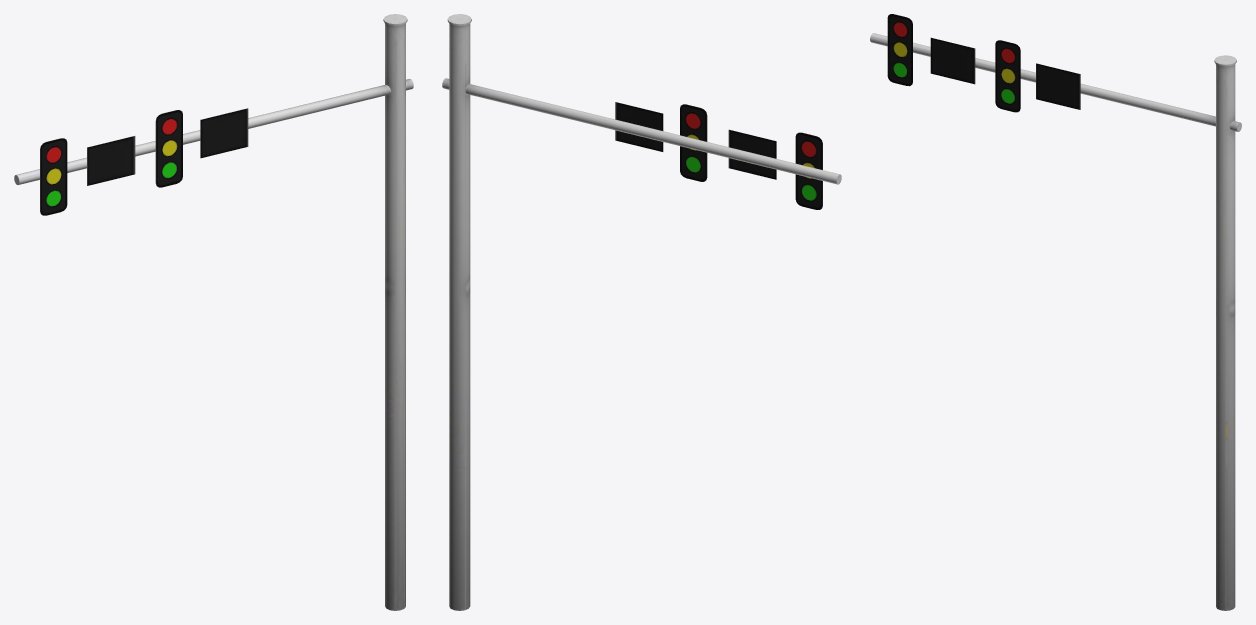
File: jiaotongdeng.glb
The picture shows the model from 3 angles, left to right: view 1: azimuth 30°, elevation 25°; view 2: azimuth 150°, elevation 25°; view 3: azimuth 330°, elevation 25°; orthographic projection. The views are drawn at different scales.
Parts seen in each view (by area): view 1: SM_honglvdeng_01; view 2: SM_honglvdeng_01; view 3: SM_honglvdeng_01.
Boxes of the visible parts, bbox=[...] form: SM_honglvdeng_01: bbox=[14, 14, 413, 610]; SM_honglvdeng_01: bbox=[442, 14, 841, 610]; SM_honglvdeng_01: bbox=[870, 14, 1241, 610].
Bounding box in the file's own units: 4.92 × 7 × 0.2616.
1 material, 1 textured.
